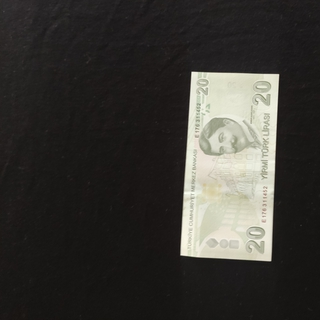20TLBack: (179, 71, 279, 262)
